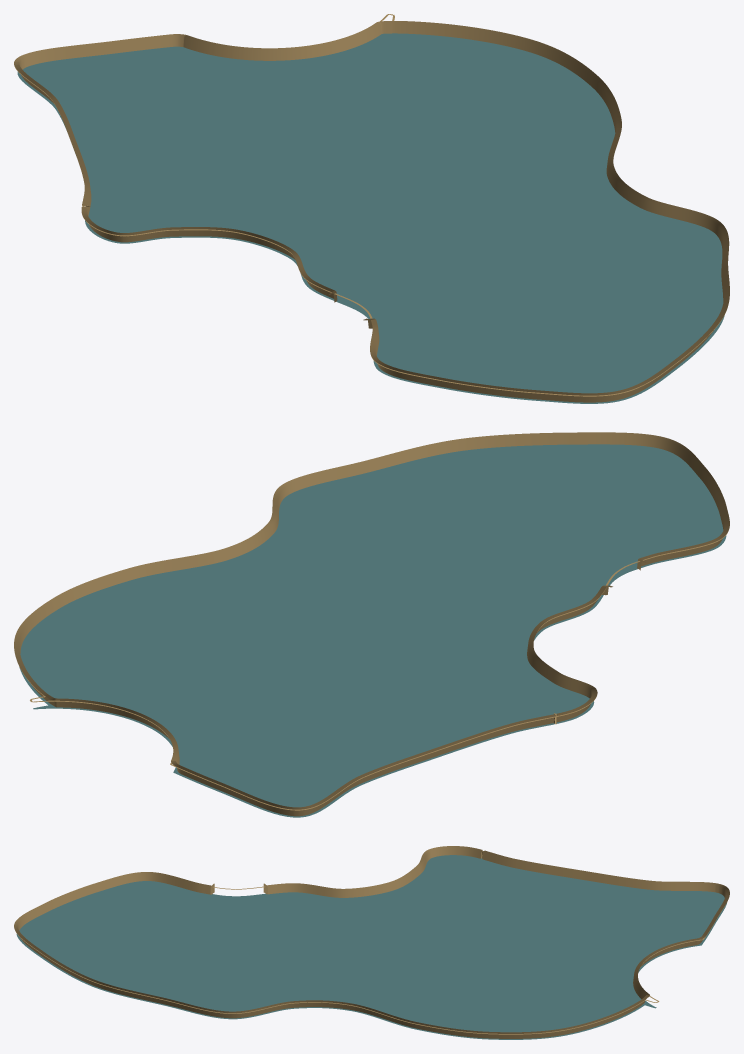
Rendered from lake.glb.
The picture shows the model from 3 angles, top to bottom: view 1: azimuth 30°, elevation 25°; view 2: azimuth 150°, elevation 25°; view 3: azimuth 270°, elevation 25°; orthographic projection. The views are drawn at different scales.
Visible parts, largest first — view 1: part_00000, part_00002, part_00001; view 2: part_00000, part_00002, part_00001; view 3: part_00000, part_00002, part_00001.
Boxes of the visible parts, bbox=[...] form: part_00000: bbox=[17, 33, 724, 403]; part_00002: bbox=[14, 21, 729, 402]; part_00001: bbox=[14, 14, 725, 396]; part_00000: bbox=[19, 444, 726, 817]; part_00002: bbox=[14, 432, 729, 816]; part_00001: bbox=[19, 531, 728, 810]; part_00000: bbox=[16, 855, 726, 1039]; part_00002: bbox=[14, 846, 729, 1038]; part_00001: bbox=[15, 851, 725, 1034].
Size of the model in its own units: 23.22 by 0.427 by 37.37.
